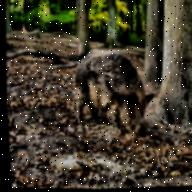boar: (42, 26, 153, 141)
